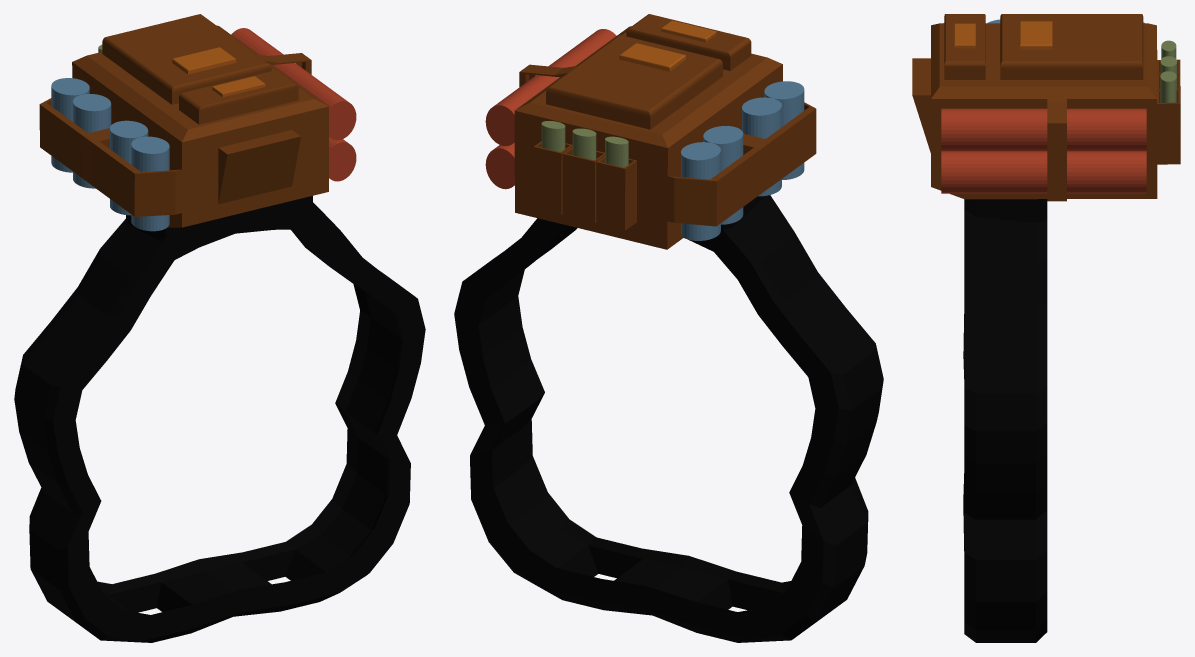
File: Chicken Backpack .fbx LOL.fbx
The picture shows the model from 3 angles, left to right: view 1: azimuth 30°, elevation 25°; view 2: azimuth 150°, elevation 25°; view 3: azimuth 270°, elevation 25°; orthographic projection. The views are drawn at different scales.
Parts seen in each view (by area): view 1: Halterung, Rucksack, Zylinder 1, Zylinder 3, Taschen; view 2: Halterung, Rucksack, Zylinder 1, Zylinder 3, Zylinder 2, Taschen; view 3: Halterung, Rucksack, Zylinder 3, Taschen, Zylinder 2.
Boxes of the visible parts, <box> form: Halterung: <box>14,196,425,642</box>; Rucksack: <box>39,14,328,227</box>; Zylinder 1: <box>51,78,169,231</box>; Zylinder 3: <box>231,28,356,181</box>; Taschen: <box>172,47,265,97</box>; Halterung: <box>454,195,883,642</box>; Rucksack: <box>514,14,816,249</box>; Zylinder 1: <box>681,81,804,240</box>; Zylinder 3: <box>485,29,616,189</box>; Zylinder 2: <box>541,121,628,167</box>; Taschen: <box>619,20,716,71</box>; Halterung: <box>963,199,1047,642</box>; Rucksack: <box>912,14,1180,201</box>; Zylinder 3: <box>941,108,1146,193</box>; Taschen: <box>954,21,1052,49</box>; Zylinder 2: <box>1160,40,1177,102</box>.
Size of the model in its own units: 398 by 541 by 237.
